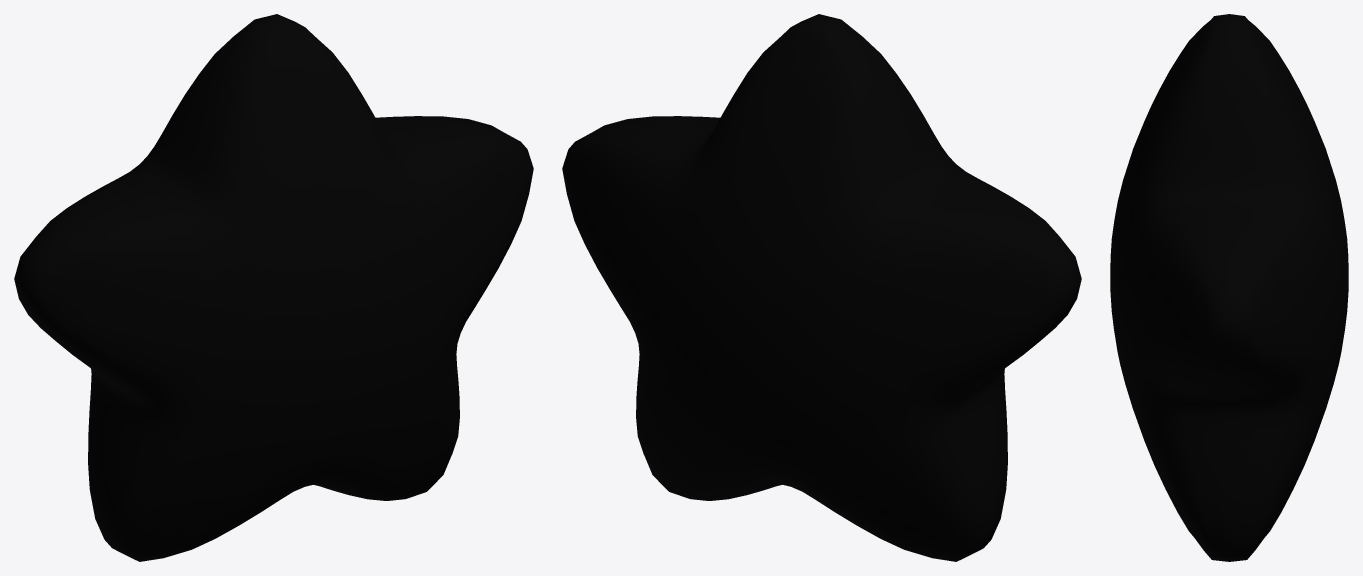
3 views of the same model, side by side, from view 1: azimuth 30°, elevation 25°; view 2: azimuth 150°, elevation 25°; view 3: azimuth 270°, elevation 25° (orthographic). The views are drawn at different scales.
Parts seen in each view (by area): view 1: Star_Star_0; view 2: Star_Star_0; view 3: Star_Star_0.
Boxes of the visible parts, left/top/right/bottom form: Star_Star_0: left=14, top=14, right=533, bottom=561; Star_Star_0: left=562, top=14, right=1081, bottom=561; Star_Star_0: left=1110, top=14, right=1348, bottom=561.
Size of the model in its own units: 0.6194 by 0.5856 by 0.2656.
Materials: 1 (1 with a texture image).
